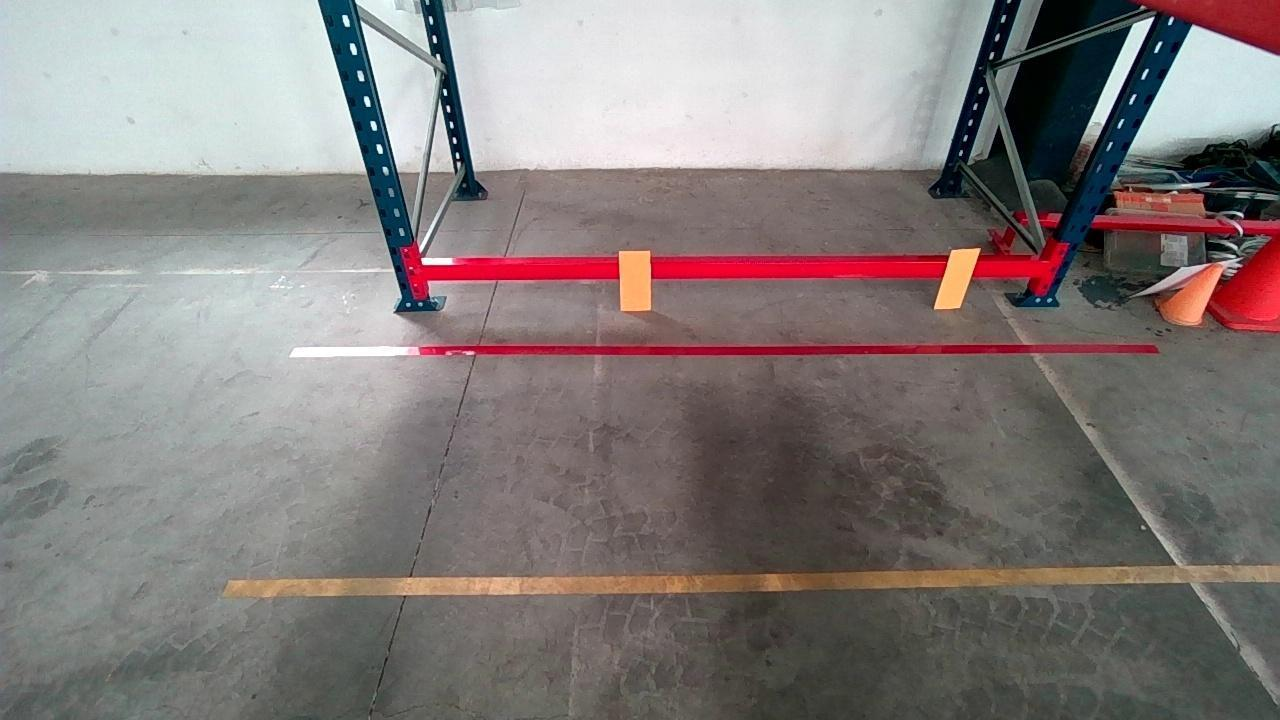h_rack: (422, 252, 1042, 282)
orange_strip: (935, 248, 983, 308), (620, 249, 652, 310)
red_line: (289, 333, 1162, 367)
yellow_line: (226, 552, 1276, 604)
